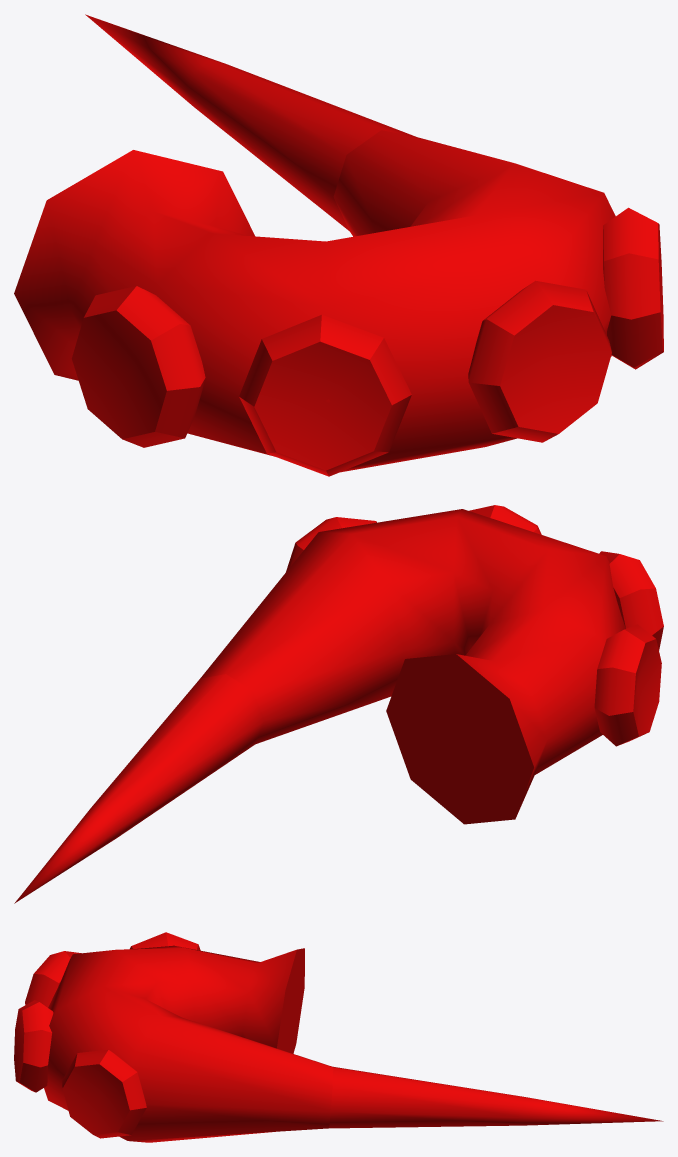
The model's file is Asset_SilverbeardHook.glb.
3 views of the same model, one above another, from view 1: azimuth 30°, elevation 25°; view 2: azimuth 150°, elevation 25°; view 3: azimuth 270°, elevation 25° (orthographic). The views are drawn at different scales.
Visible parts, largest first — view 1: Asset_SilverbeardHook; view 2: Asset_SilverbeardHook; view 3: Asset_SilverbeardHook.
Part boxes in pixels (<box>): Asset_SilverbeardHook: <box>14,14,663,476</box>; Asset_SilverbeardHook: <box>14,505,663,903</box>; Asset_SilverbeardHook: <box>14,932,663,1142</box>.
Bounding box in the file's own units: 0.2291 × 0.1059 × 0.4282.
